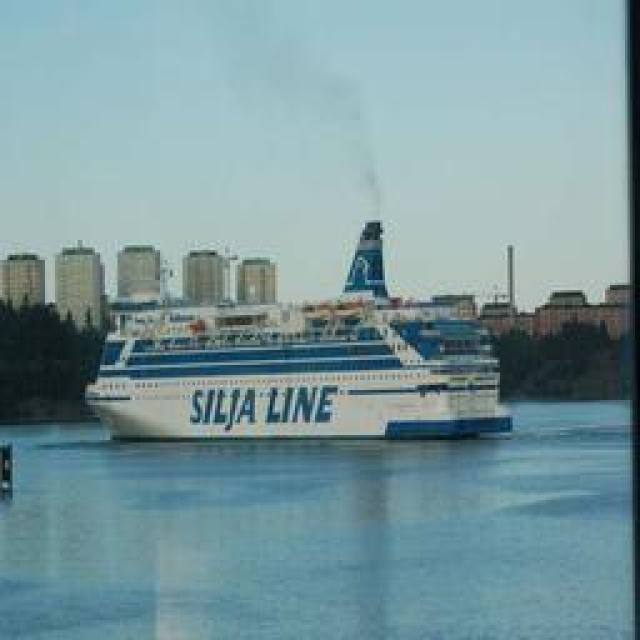CIV_Ship: (85, 242, 508, 438)
